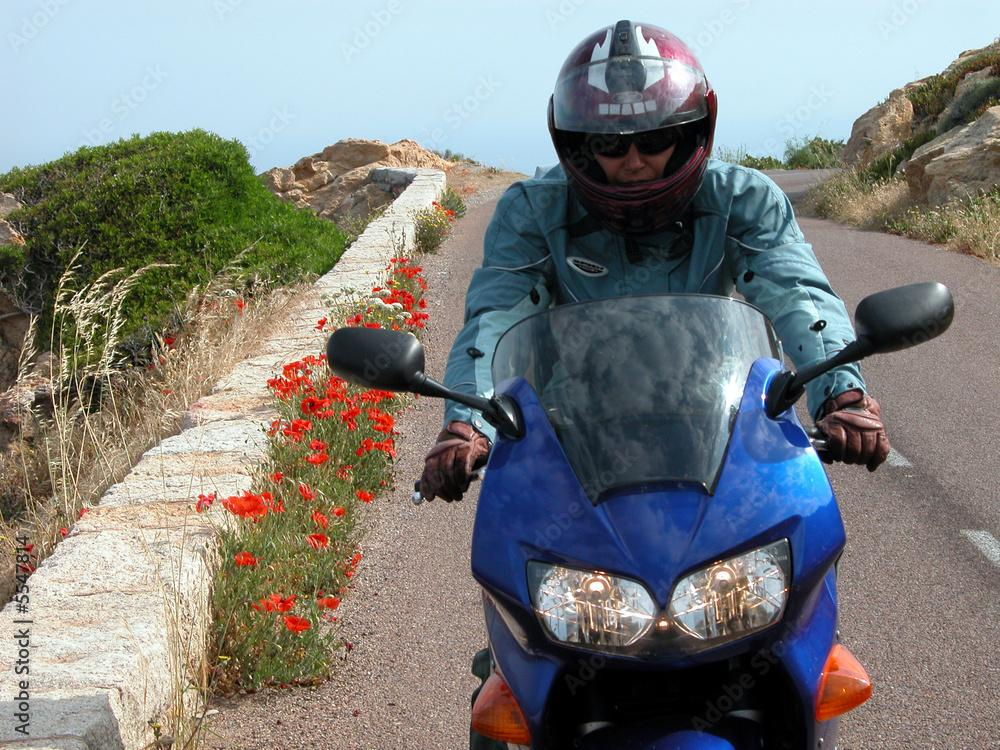helmet: (545, 18, 719, 240)
